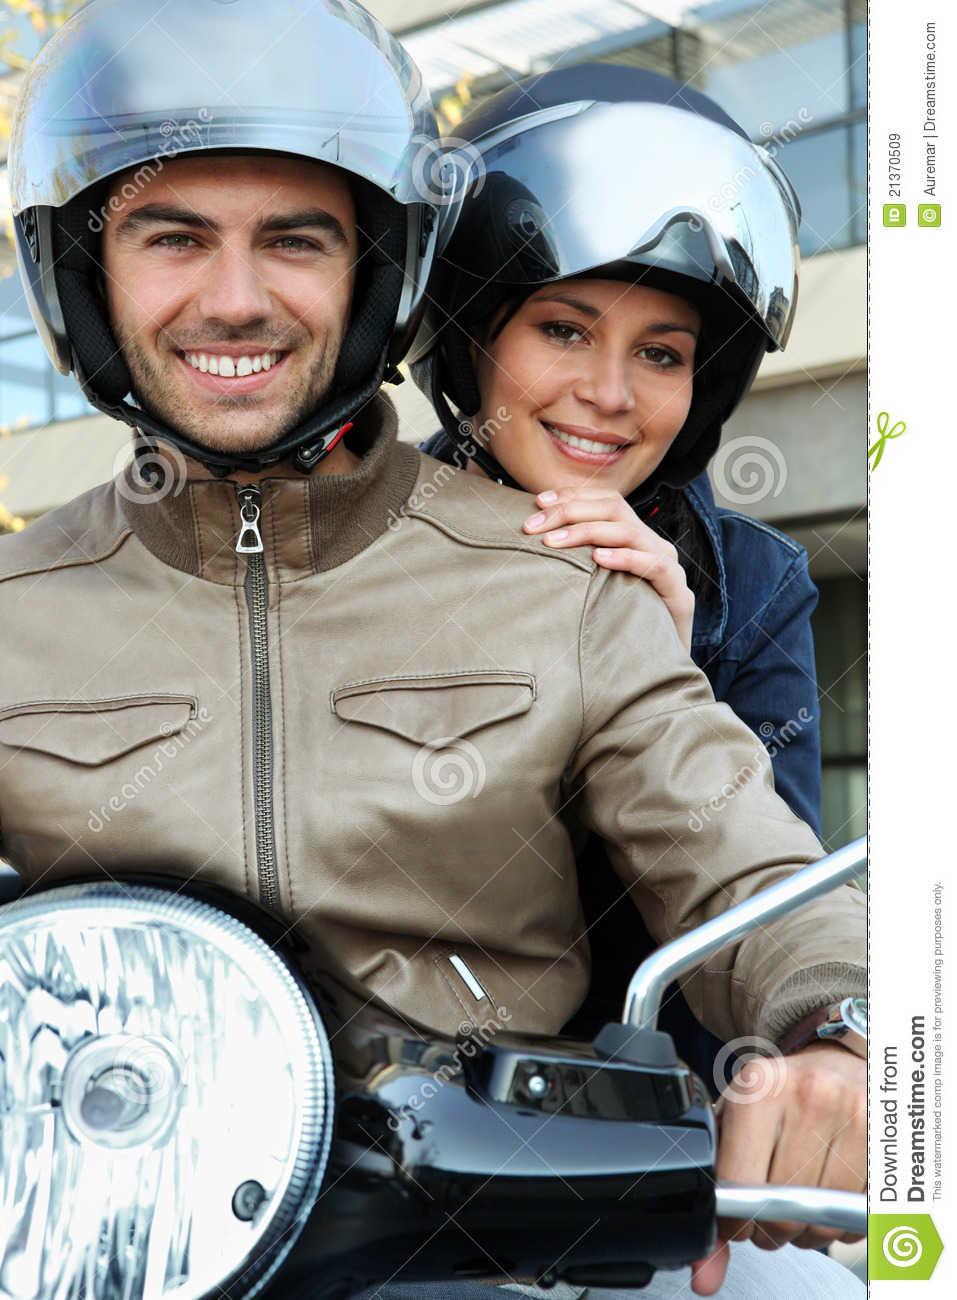helmet: (24, 17, 456, 363), (438, 45, 802, 433)
